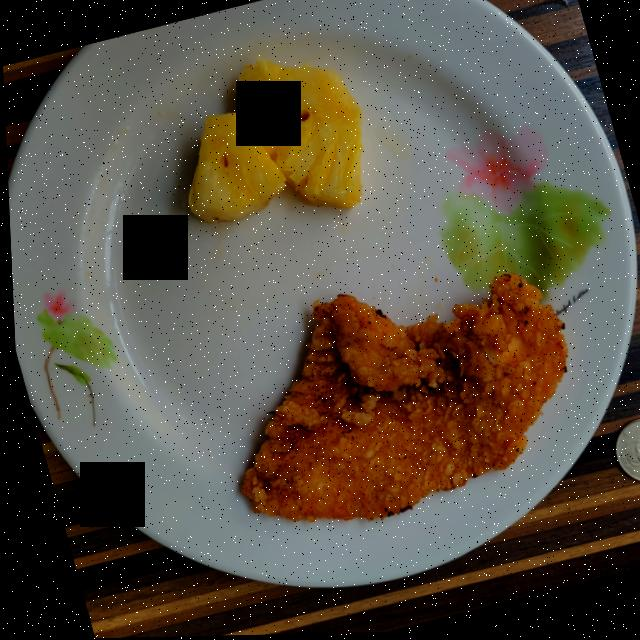coin: (609, 421, 640, 485)
fried chicken cutlet: (236, 275, 563, 522)
pineapple: (185, 58, 360, 223)
